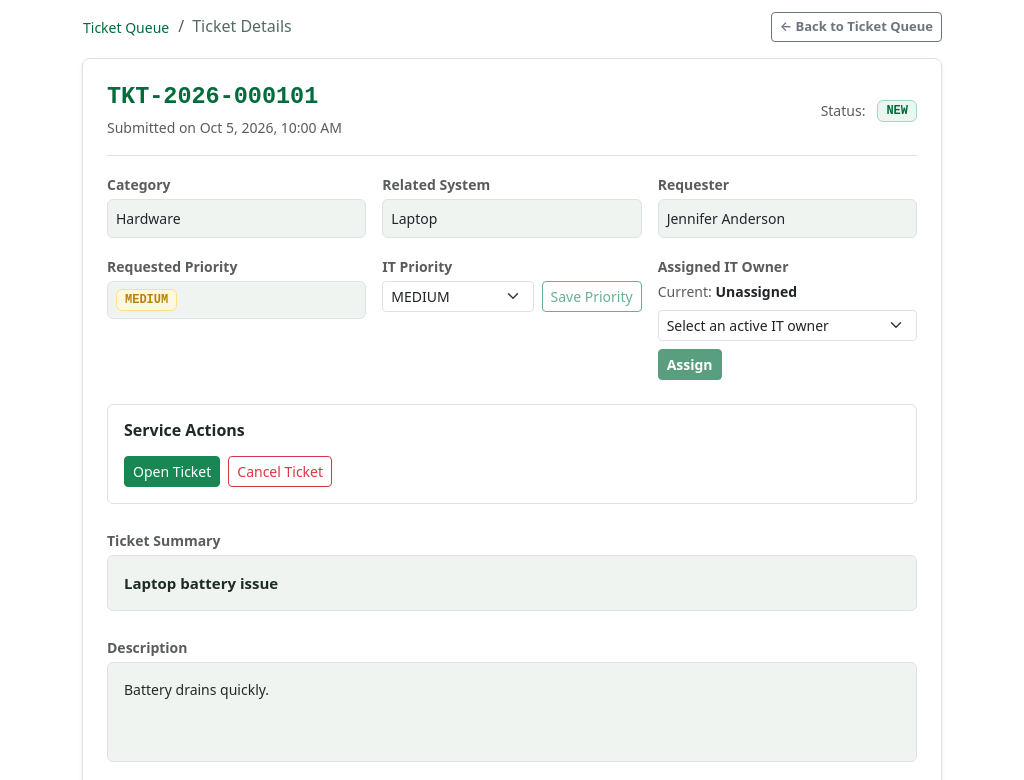
Test: Ticket Detail assignment controls › saves a changed IT Priority through the priority API
Check: the heading "TKT-2026-000101" is shown, box 107,82 -> 342,111
Select "HIGH" in the dropdown named "Update IT Priority" at [458, 296], box 382,281 -> 534,312
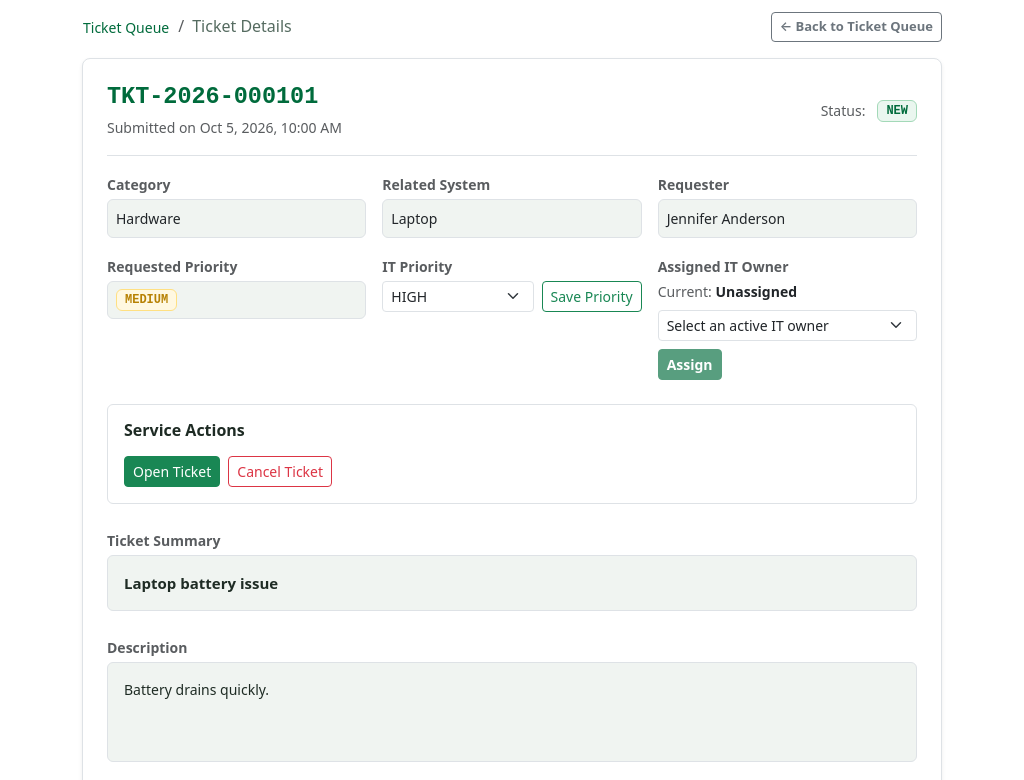
Check: the button "Save Priority" is enabled
Click the button "Save Priority" at [592, 296], box 542,281 -> 642,312
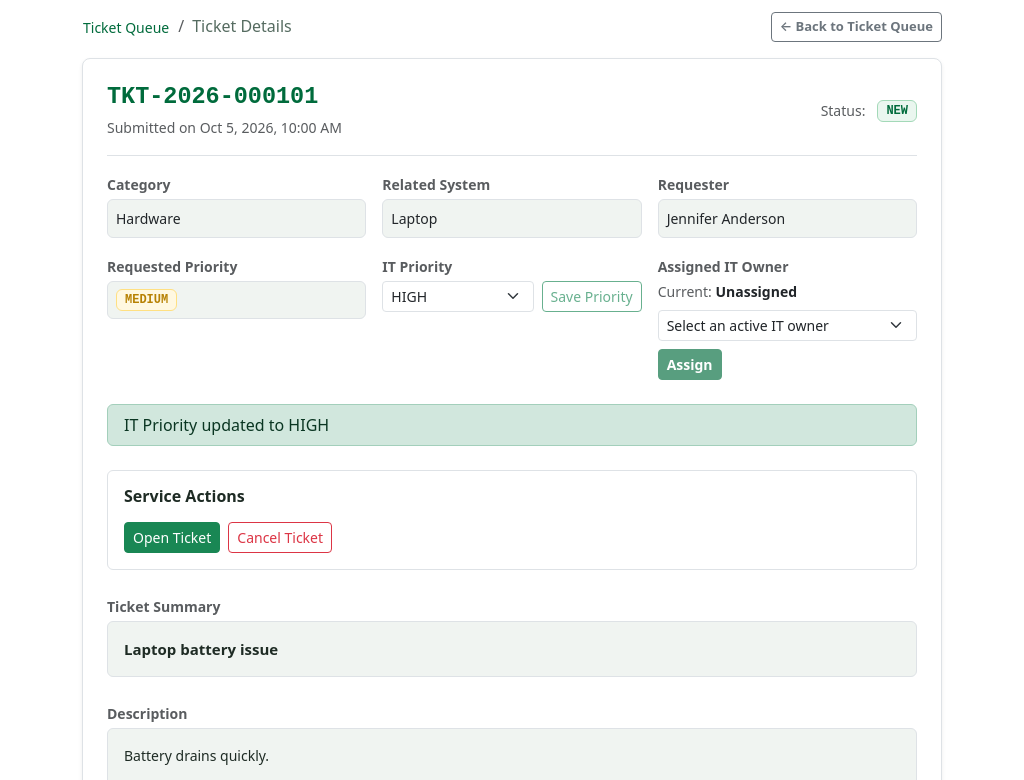
Check: the message reads "IT Priority updated to HIGH", box 124,414 -> 329,436
